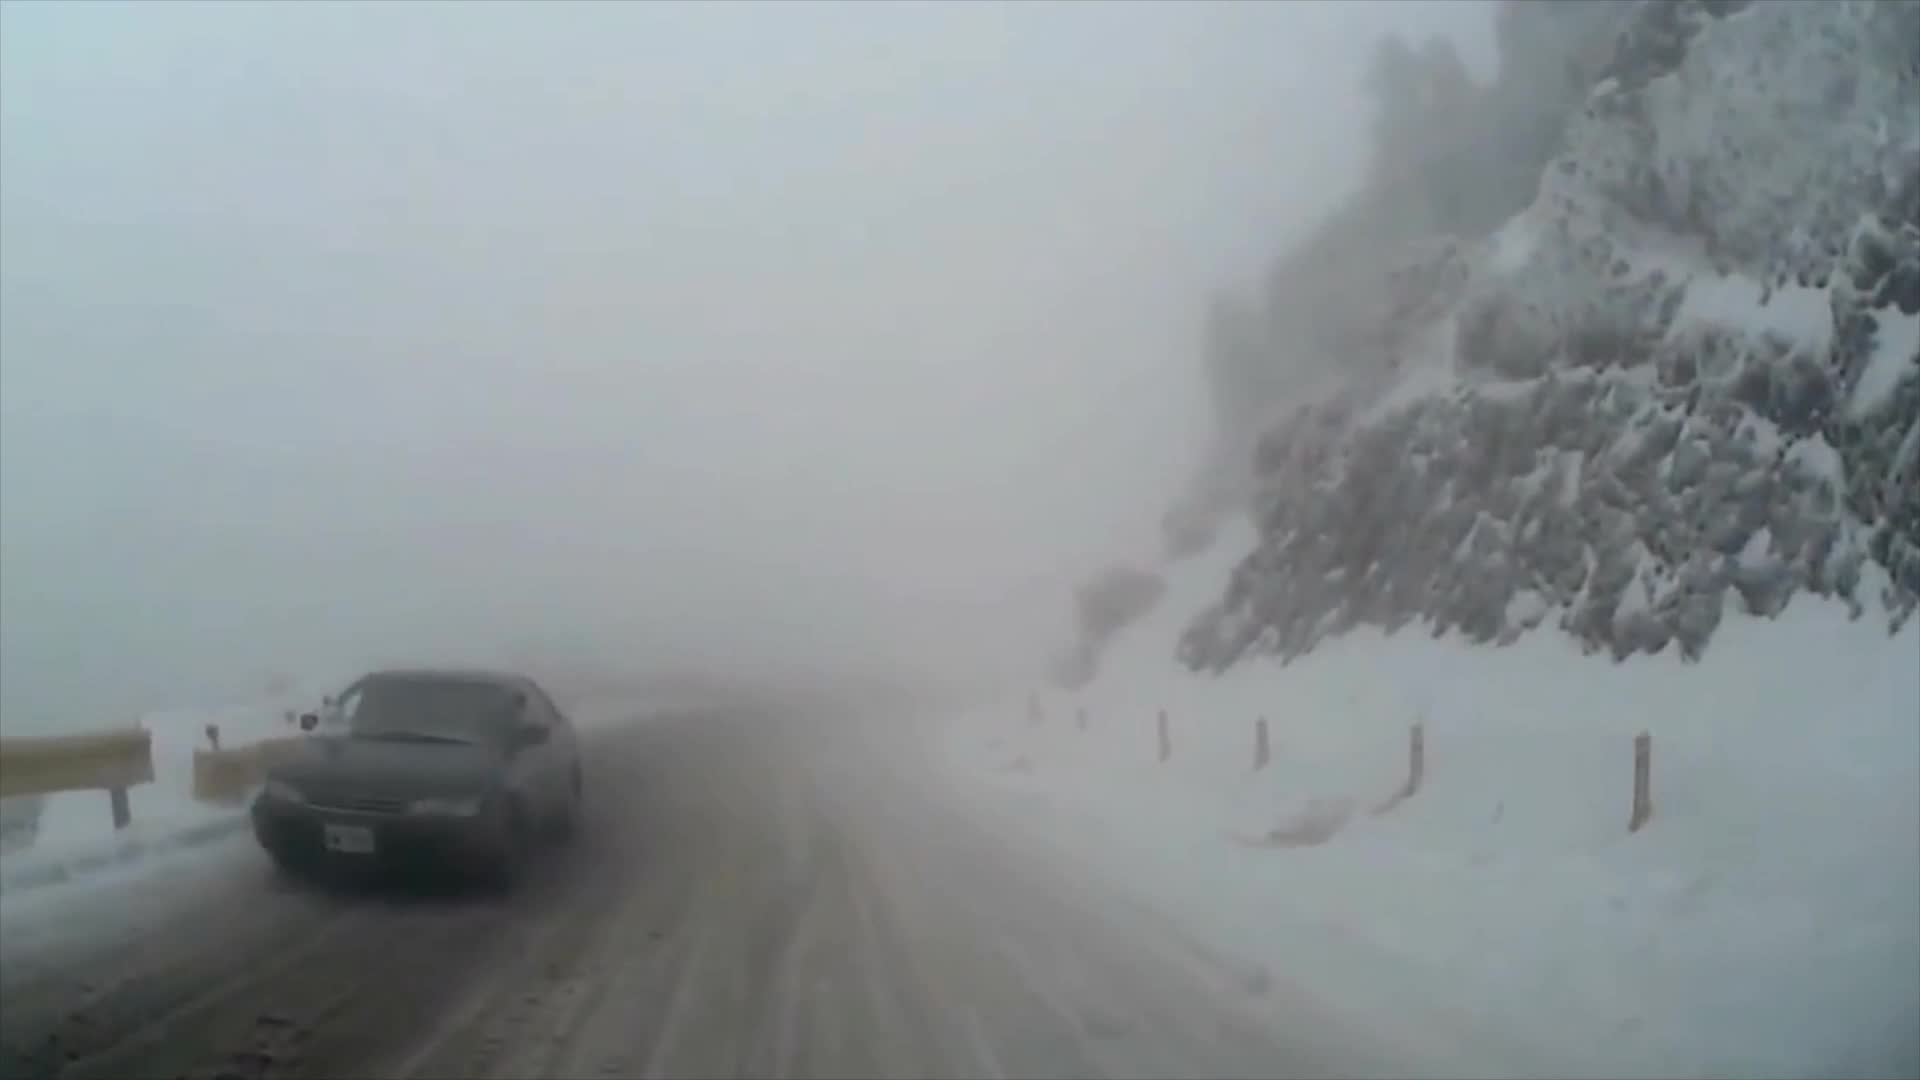vehicle: (251, 666, 587, 891)
